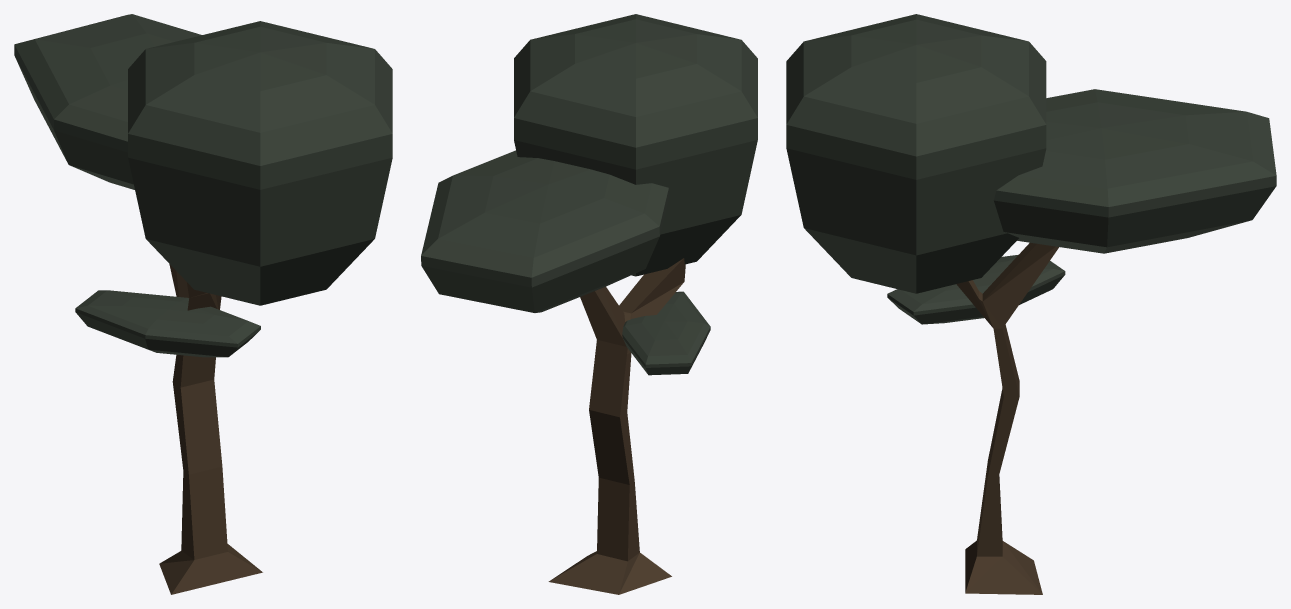
Rendered from Tree 2.fbx.
The picture shows the model from 3 angles, left to right: view 1: azimuth 30°, elevation 25°; view 2: azimuth 150°, elevation 25°; view 3: azimuth 270°, elevation 25°; orthographic projection. The views are drawn at different scales.
Visible parts, largest first — view 1: pCube709; view 2: pCube709; view 3: pCube709.
Part boxes in pixels (left/top/right/bottom): pCube709: left=14, top=14, right=392, bottom=594; pCube709: left=421, top=14, right=757, bottom=594; pCube709: left=786, top=14, right=1276, bottom=594.
Size of the model in its own units: 23.25 by 45.73 by 37.95.
